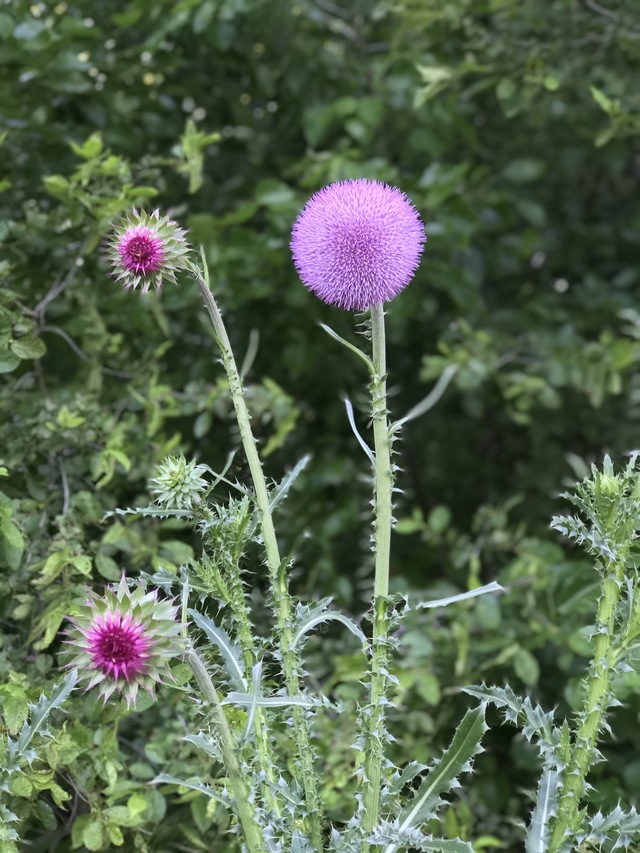thistle: (269, 177, 438, 312), (51, 582, 194, 709), (103, 212, 201, 291)
